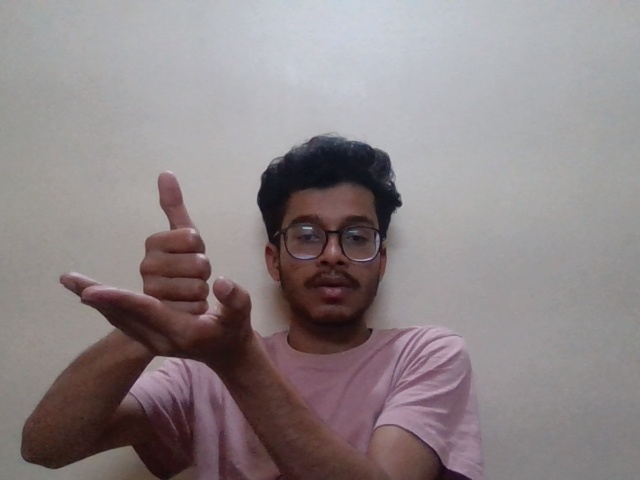help: (54, 162, 274, 389)
